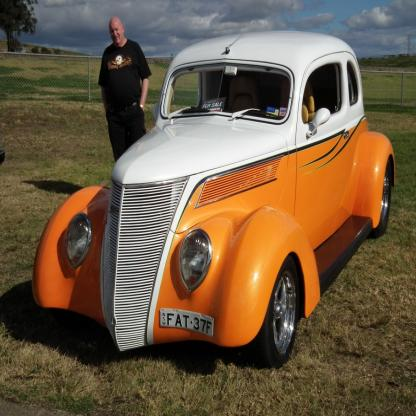Car: (34, 19, 396, 370)
